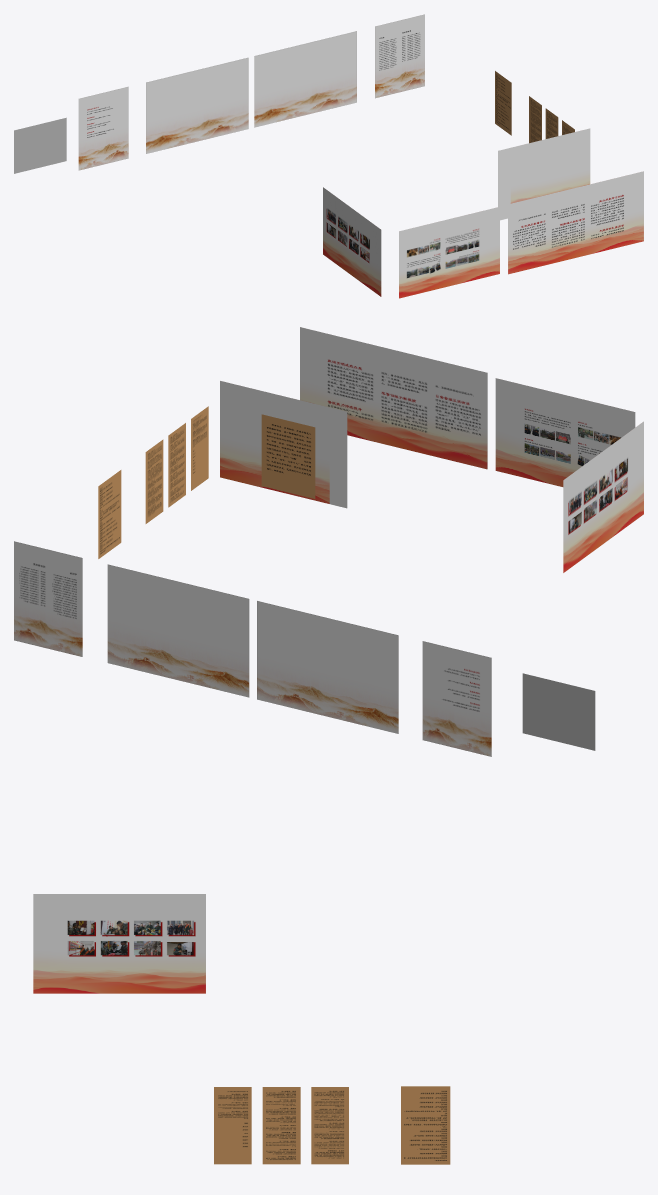
3 renders of one model, top to bottom at view 1: azimuth 30°, elevation 25°; view 2: azimuth 150°, elevation 25°; view 3: azimuth 270°, elevation 25°, orthographic. The views are drawn at different scales.
Parts seen in each view (by area): view 1: 特战中队_建设成就, 特战中队_发展历程右, 特战中队_发展历程左, 特战中队_军营文化, 特战中队_重大任务, 特战中队_官兵风采, 特战中队_历史沿革, 特战中队_历任主官, 特战中队_前言, 特战中队_集体荣誉, 特战中队_个人荣誉左; view 2: 特战中队_建设成就, 特战中队_发展历程右, 特战中队_发展历程左, 特战中队_军营文化, 特战中队_重大任务, 特战中队_官兵风采, 特战中队_历史沿革, 特战中队_历任主官, 特战中队_前言, 特战中队_未来寄语, 特战中队_集体荣誉, 特战中队_个人荣誉左 (+2 smaller); view 3: 特战中队_官兵风采, 特战中队_集体荣誉, 特战中队_个人荣誉中, 特战中队_个人荣誉右, 特战中队_个人荣誉左.
Part boxes in pixels (x1,y1,x2,y2): 特战中队_建设成就: [508, 171, 643, 274]; 特战中队_发展历程右: [254, 31, 356, 127]; 特战中队_发展历程左: [146, 57, 248, 153]; 特战中队_军营文化: [399, 207, 499, 298]; 特战中队_重大任务: [498, 128, 590, 220]; 特战中队_官兵风采: [323, 187, 381, 296]; 特战中队_历史沿革: [78, 86, 128, 170]; 特战中队_历任主官: [375, 14, 424, 98]; 特战中队_前言: [14, 117, 66, 173]; 特战中队_集体荣誉: [495, 71, 511, 135]; 特战中队_个人荣誉左: [529, 96, 541, 143]; 特战中队_建设成就: [300, 327, 487, 469]; 特战中队_发展历程右: [107, 564, 249, 697]; 特战中队_发展历程左: [257, 601, 398, 733]; 特战中队_军营文化: [495, 378, 635, 486]; 特战中队_重大任务: [220, 381, 347, 508]; 特战中队_官兵风采: [563, 421, 643, 572]; 特战中队_历史沿革: [422, 641, 491, 756]; 特战中队_历任主官: [14, 541, 82, 656]; 特战中队_前言: [522, 673, 595, 750]; 特战中队_未来寄语: [261, 414, 315, 498]; 特战中队_集体荣誉: [98, 470, 121, 558]; 特战中队_个人荣誉左: [145, 439, 163, 523]; 特战中队_官兵风采: [33, 894, 205, 993]; 特战中队_集体荣誉: [401, 1086, 450, 1164]; 特战中队_个人荣誉中: [262, 1087, 300, 1164]; 特战中队_个人荣誉右: [214, 1087, 251, 1164]; 特战中队_个人荣誉左: [311, 1087, 348, 1164].
Size of the model in its own units: 1325 by 216 by 1154.
